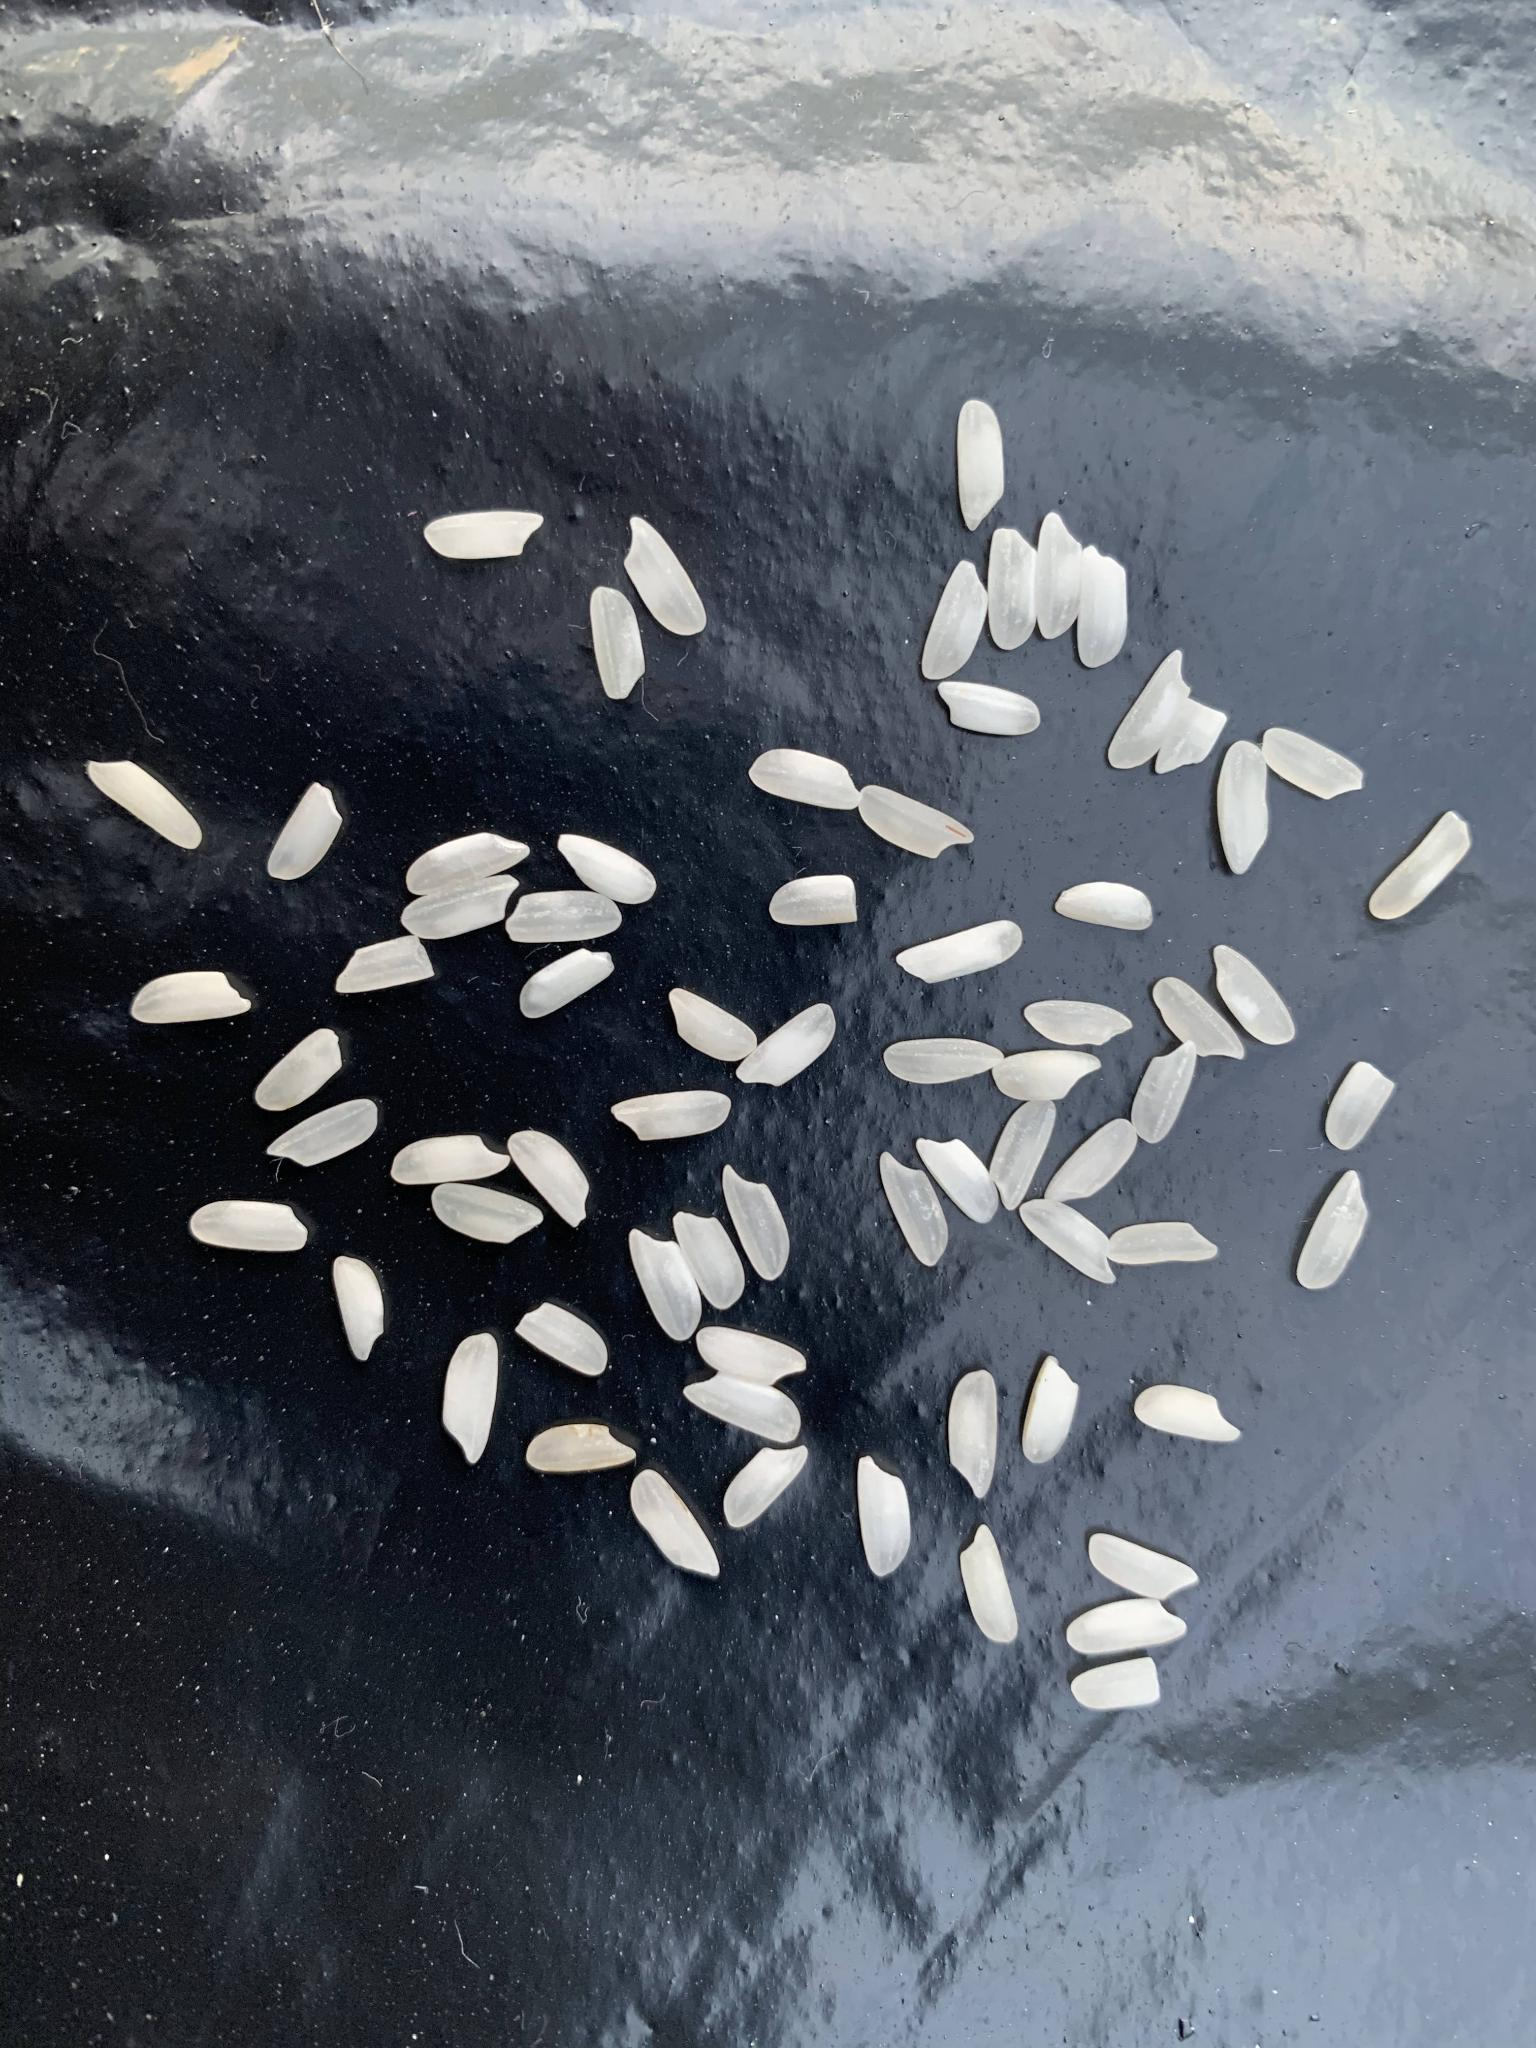rice: (1368, 810, 1471, 921), (86, 760, 203, 848), (1108, 650, 1191, 771), (624, 518, 707, 639), (631, 1471, 720, 1579), (858, 784, 975, 860), (1296, 1169, 1367, 1292), (507, 1129, 591, 1230), (737, 1003, 836, 1089), (1213, 945, 1296, 1047), (895, 921, 1025, 985), (682, 1374, 802, 1443), (721, 1164, 791, 1284), (1020, 1200, 1117, 1285), (918, 560, 986, 681), (628, 1230, 702, 1340), (879, 1151, 949, 1268), (266, 1097, 379, 1168), (1042, 1118, 1136, 1203), (1154, 977, 1246, 1063), (402, 872, 520, 939), (407, 832, 529, 895), (1263, 727, 1367, 801), (444, 1330, 500, 1464), (1087, 1532, 1199, 1600), (991, 1100, 1057, 1213), (268, 780, 344, 879), (747, 748, 863, 811), (721, 1445, 808, 1529), (915, 1137, 999, 1224), (671, 1211, 744, 1311), (511, 1301, 607, 1377), (253, 1029, 340, 1111), (557, 834, 657, 905), (694, 1326, 808, 1387), (1063, 1598, 1187, 1655), (666, 987, 758, 1063), (1220, 740, 1270, 877), (431, 1184, 545, 1243), (1129, 1042, 1196, 1145), (520, 947, 615, 1018), (958, 1524, 1016, 1640), (957, 398, 1007, 531), (591, 587, 647, 701), (858, 1455, 910, 1579), (1078, 542, 1128, 669), (507, 890, 623, 945), (131, 971, 250, 1024), (610, 1089, 729, 1142), (949, 1367, 997, 1498), (1021, 1356, 1079, 1464), (390, 1134, 511, 1185), (987, 527, 1037, 651), (1326, 1061, 1394, 1151), (1134, 1384, 1241, 1440), (336, 935, 436, 995), (423, 511, 544, 560), (939, 682, 1042, 739), (989, 1050, 1102, 1101), (1152, 698, 1226, 776), (883, 1039, 1004, 1085), (189, 1201, 305, 1250), (1041, 511, 1081, 643), (334, 1255, 384, 1361), (524, 1426, 636, 1472), (1023, 998, 1134, 1045), (1070, 1658, 1162, 1711), (1108, 1222, 1220, 1266), (1054, 884, 1152, 932), (770, 876, 857, 926)
